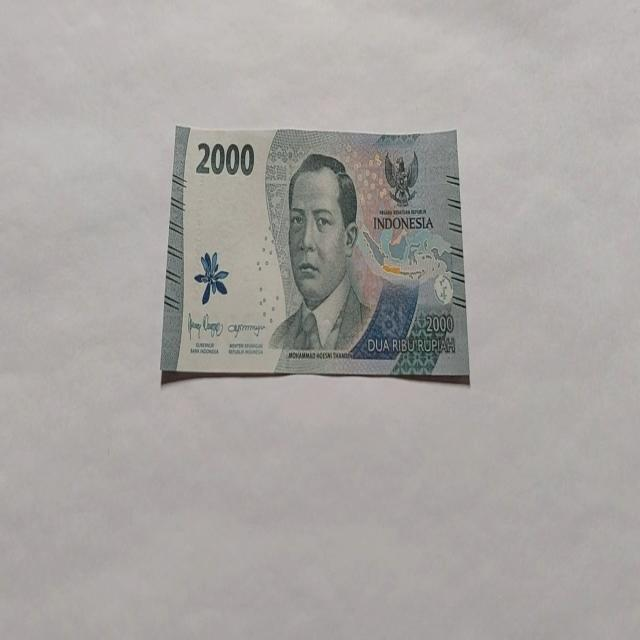dua ribu rupiah: (160, 123, 470, 385), (267, 151, 373, 357)
